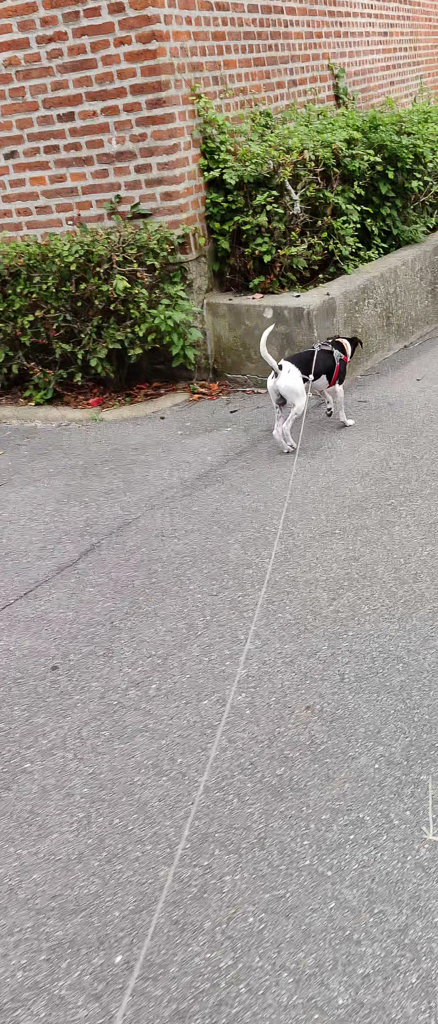Dog: (246, 319, 377, 461)
